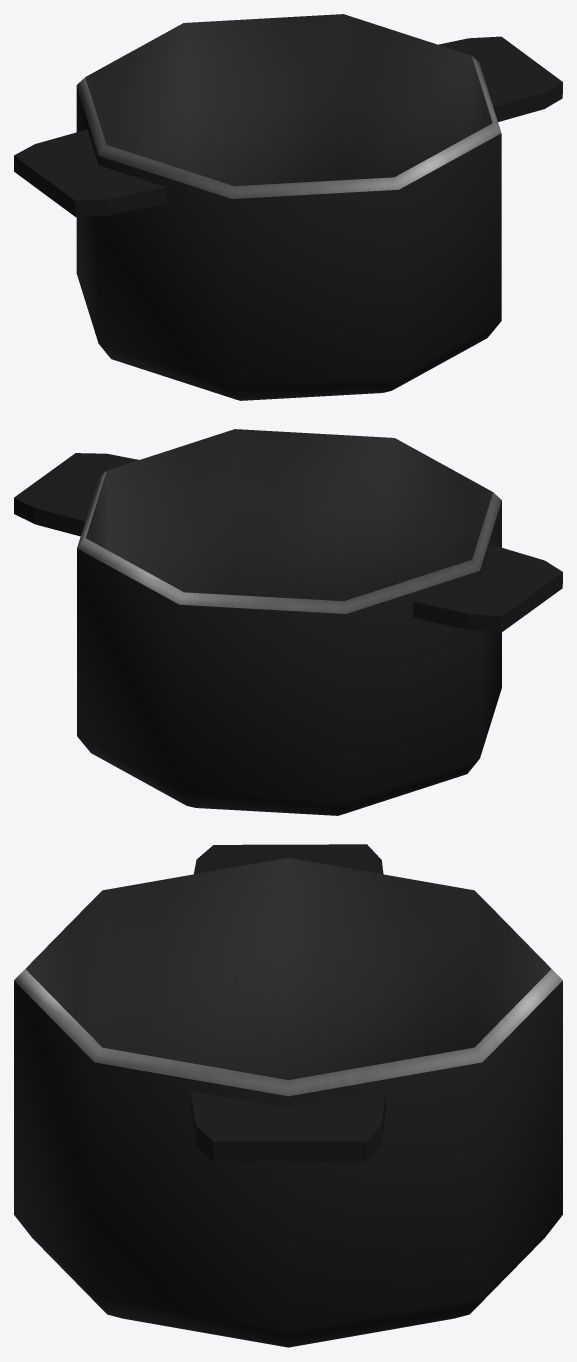
Rendered from Cooking_Pot_B.FBX.
3 views of the same model, one above another, from view 1: azimuth 30°, elevation 25°; view 2: azimuth 150°, elevation 25°; view 3: azimuth 270°, elevation 25° (orthographic). The views are drawn at different scales.
Parts seen in each view (by area): view 1: Cooking_Pot; view 2: Cooking_Pot; view 3: Cooking_Pot.
Boxes of the visible parts, box(x1,y1,x2,y2) form: Cooking_Pot: box(14, 14, 562, 400); Cooking_Pot: box(14, 429, 562, 815); Cooking_Pot: box(14, 844, 562, 1347).
Size of the model in its own units: 102 by 45 by 80.
